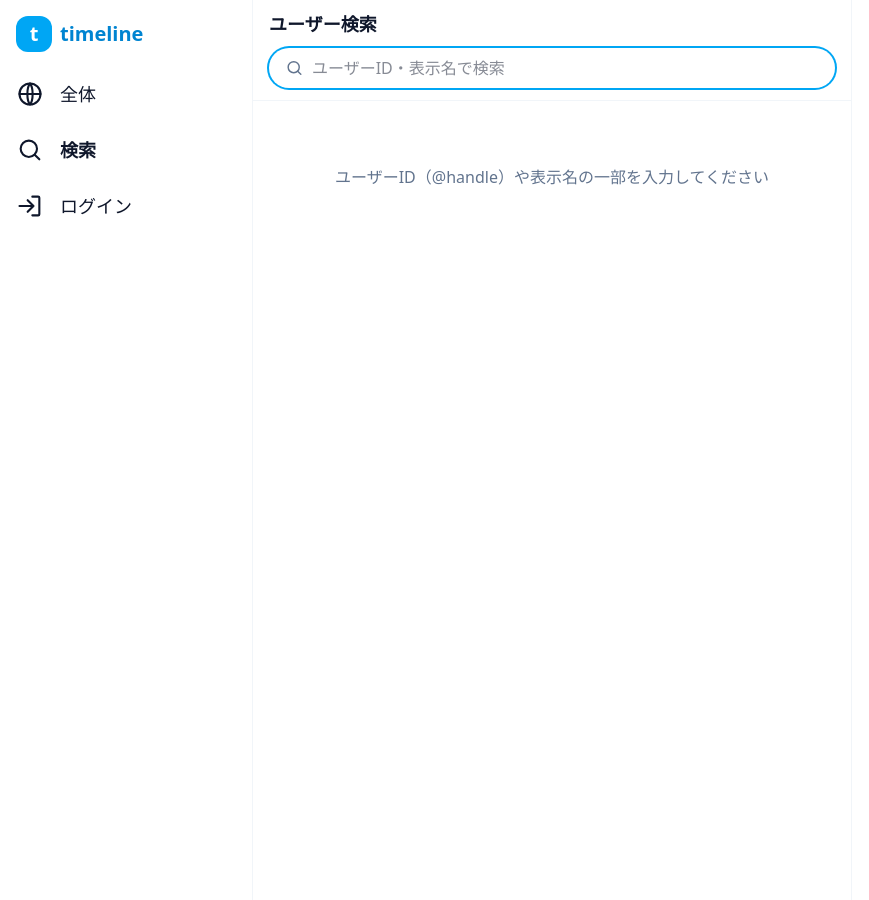
Test: ユーザー検索 › 入力が止まってから検索し、URL にキーワードを入れる
Expected: the text "ユーザーID（@handle）や表示名の一部を入力してください" is shown, [335,166,769,188]
Type "hana" into the search field labelled "ユーザーID・表示名で検索".
click(566, 68); type("hana")  # box [312,56,819,80]
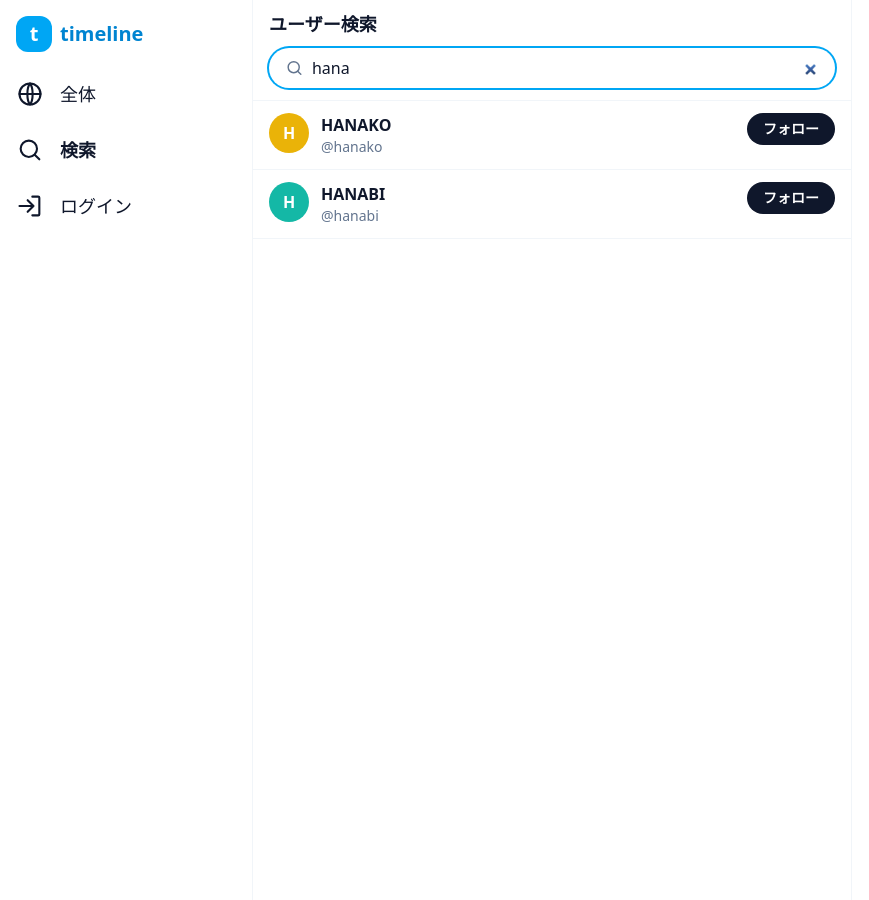
Expected: the text "HANAKO" is shown, [321,113,391,137]
Expected: the text "HANABI" is shown, [321,182,385,206]
